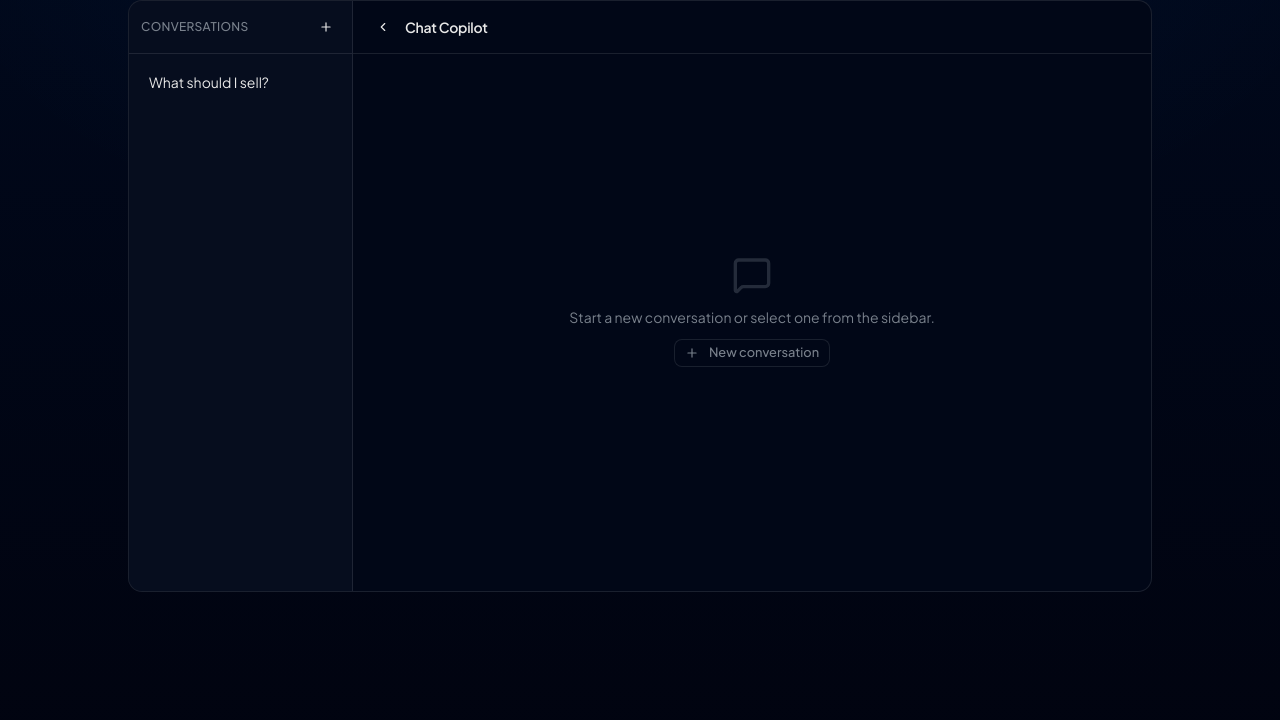
Test: ChatPage — send message › send button is disabled when input is empty
The width and height of the screenshot is (1280, 720).
(page scrolled)
Click the button with test id "session-item" at (240, 82), box [137,62,344,102]
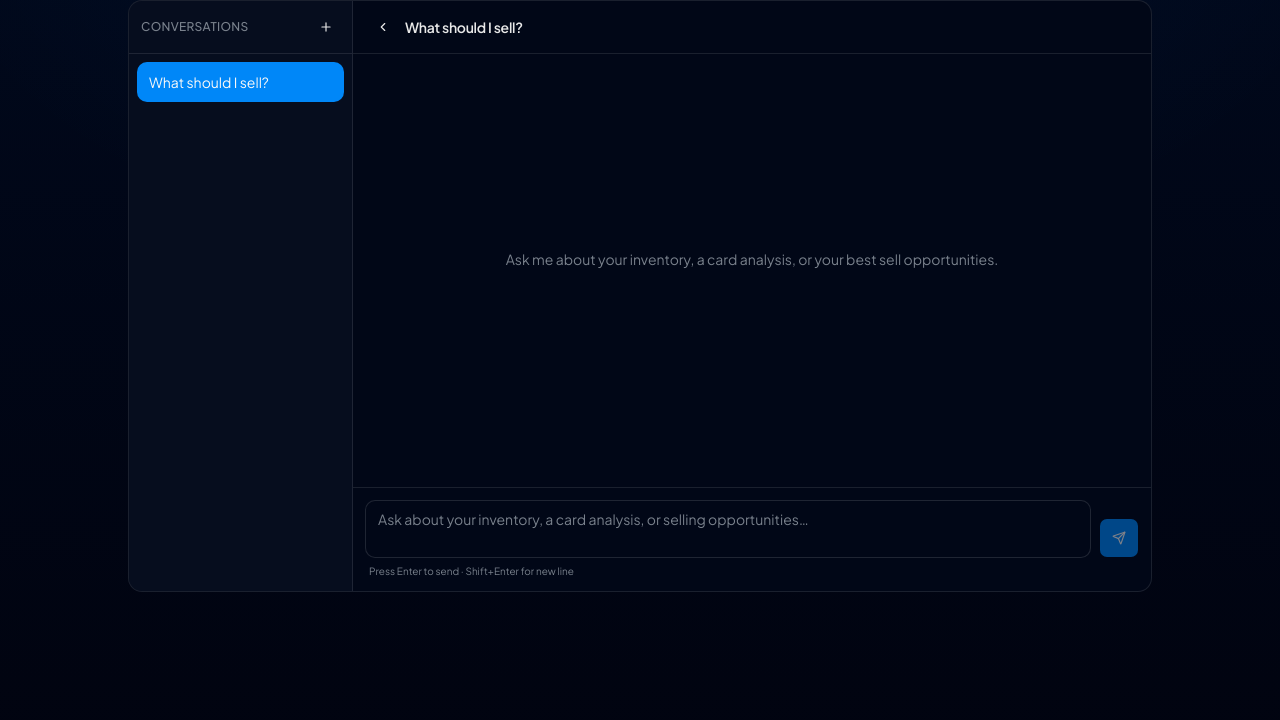
Expected: the button with test id "send-button" is disabled, [1099,518,1139,558]
